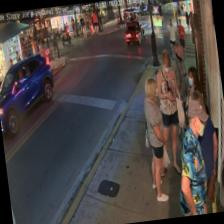person: (167, 98, 219, 216), (146, 49, 188, 176), (139, 76, 173, 201), (179, 65, 212, 177), (166, 41, 196, 140)
